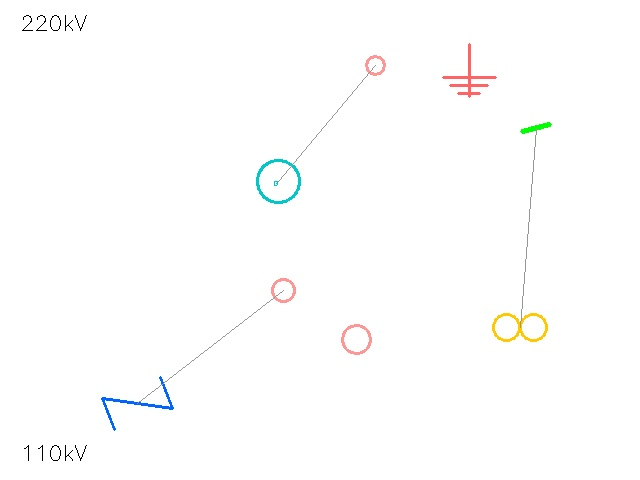busbar: (519, 111, 553, 145)
circuit_breaker: (103, 369, 171, 437)
generator: (257, 160, 299, 202)
ground: (443, 44, 495, 96)
load_break_switch: (261, 268, 305, 312)
reactor: (357, 47, 393, 83)
surge_arrester: (327, 310, 385, 368)
transformer_2w: (487, 294, 553, 360)
